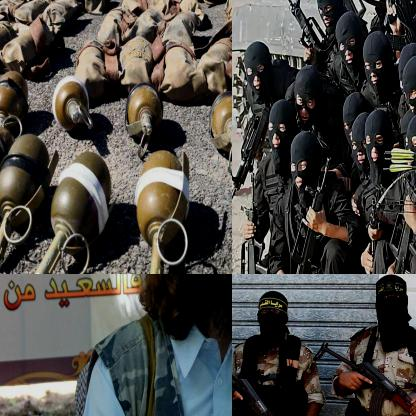rifle: (311, 342, 415, 415), (232, 345, 311, 415), (289, 155, 334, 273), (232, 107, 274, 217), (239, 171, 271, 273), (386, 168, 415, 273), (278, 0, 326, 58), (382, 0, 415, 57), (316, 0, 369, 35)
